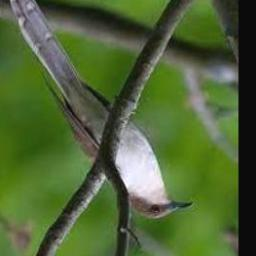Cuckoo: (9, 0, 194, 219)
